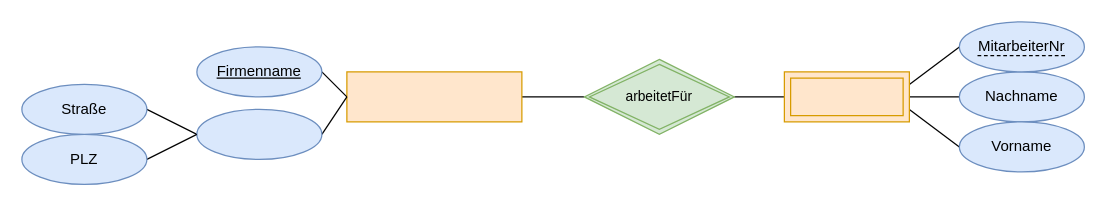
This 1106x206 diagram has some shape labels left out. Here are the shapes that lost their labels. From the top down, the centre of each, then its label:
At point 434,96: "KundenUnternehmen".
At point 846,96: "Mitarbeiter".
At point 259,133: "Adresse".
